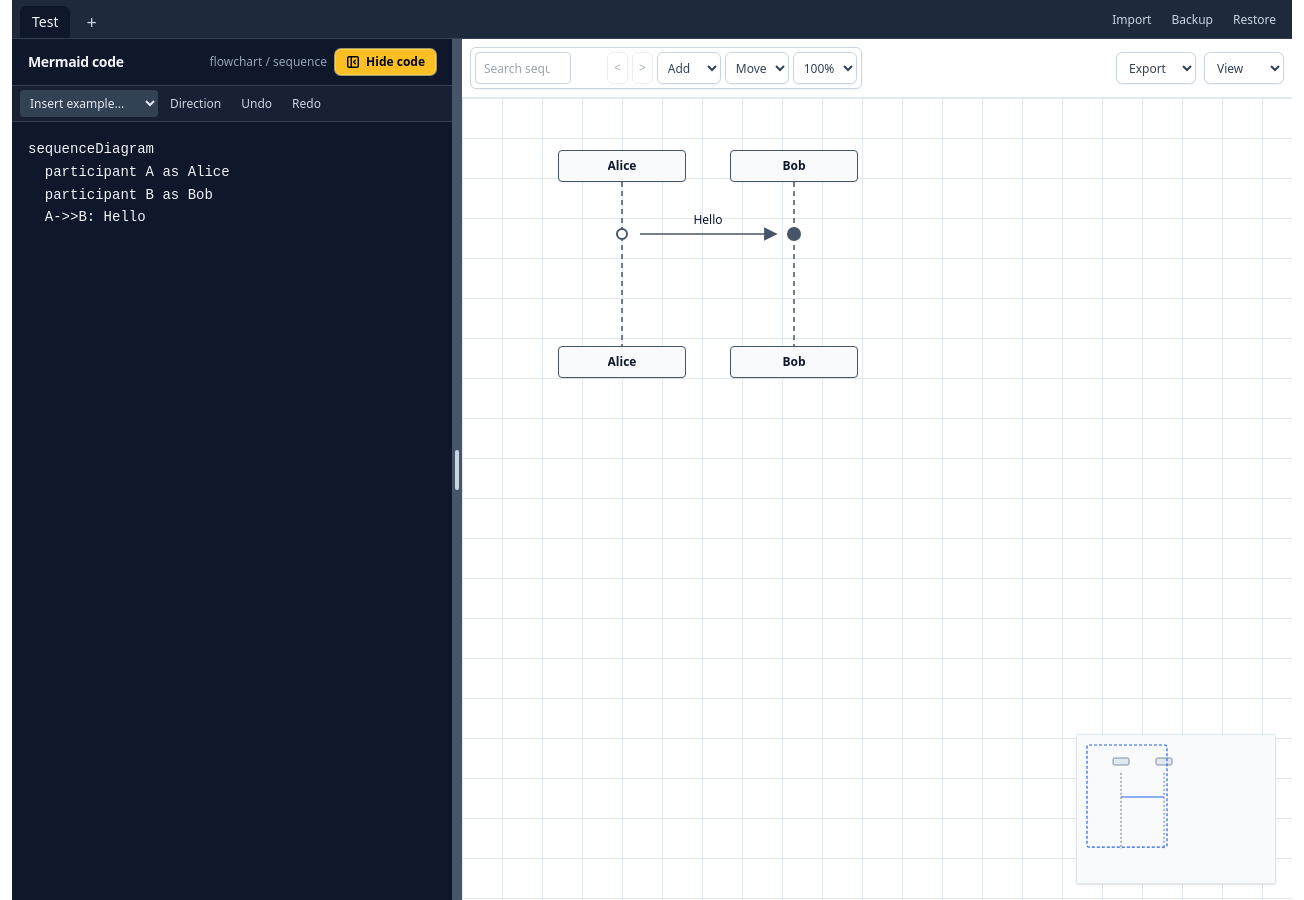
Test: MermaidVisualEditor: node label editing › searches sequence participants and messages
Expected: the element with test id "sequence-editor-canvas" is shown, [462,98,1292,899]
Type "hello" into the search field labelled "Search sequence" at (523, 68), box [475,52,571,84]
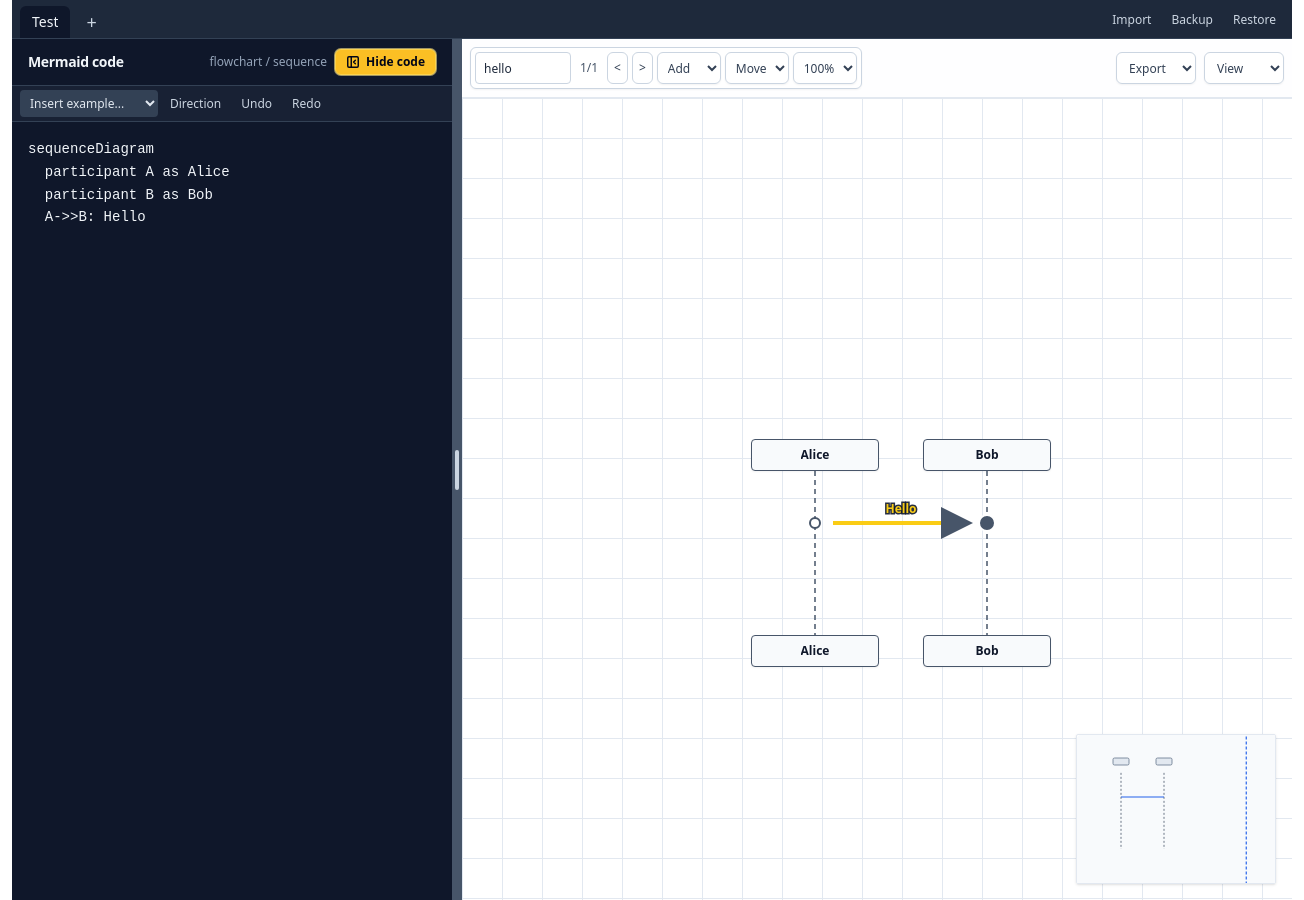
Expected: the text "1/1" is shown, [580,59,598,76]
